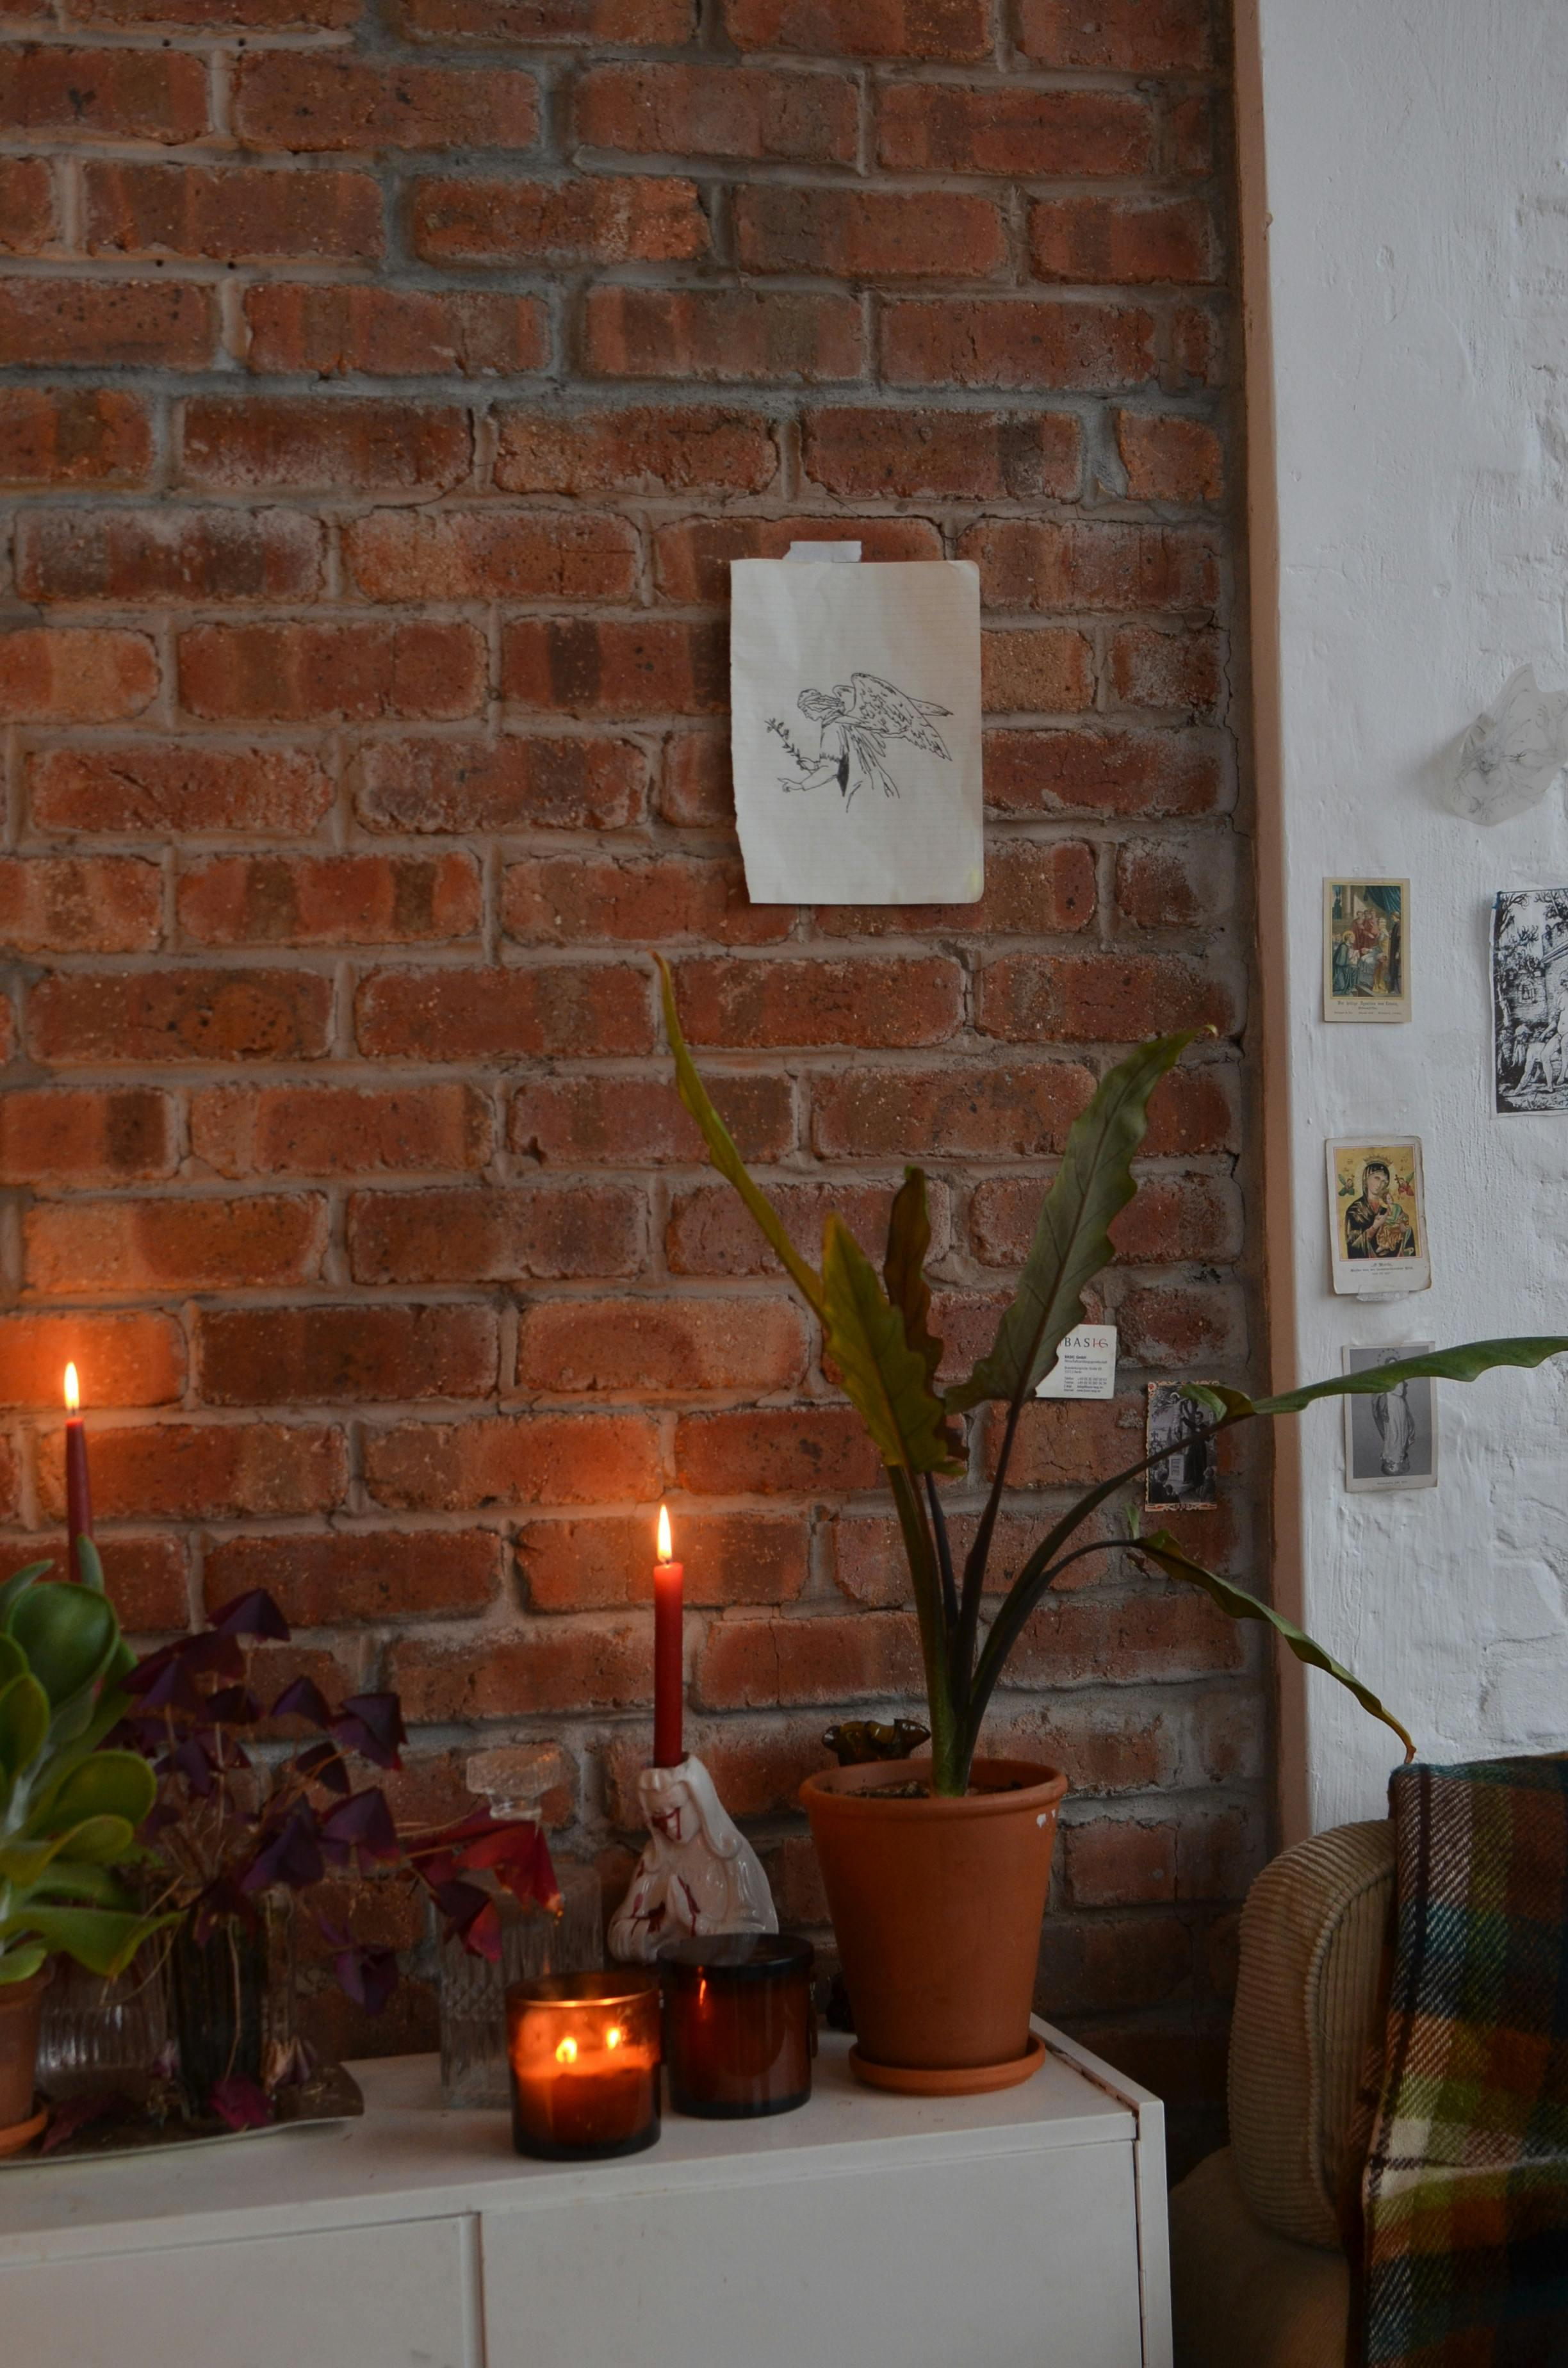Fire: (546, 1988, 663, 2084), (616, 1475, 714, 1582), (45, 1334, 121, 1439)
